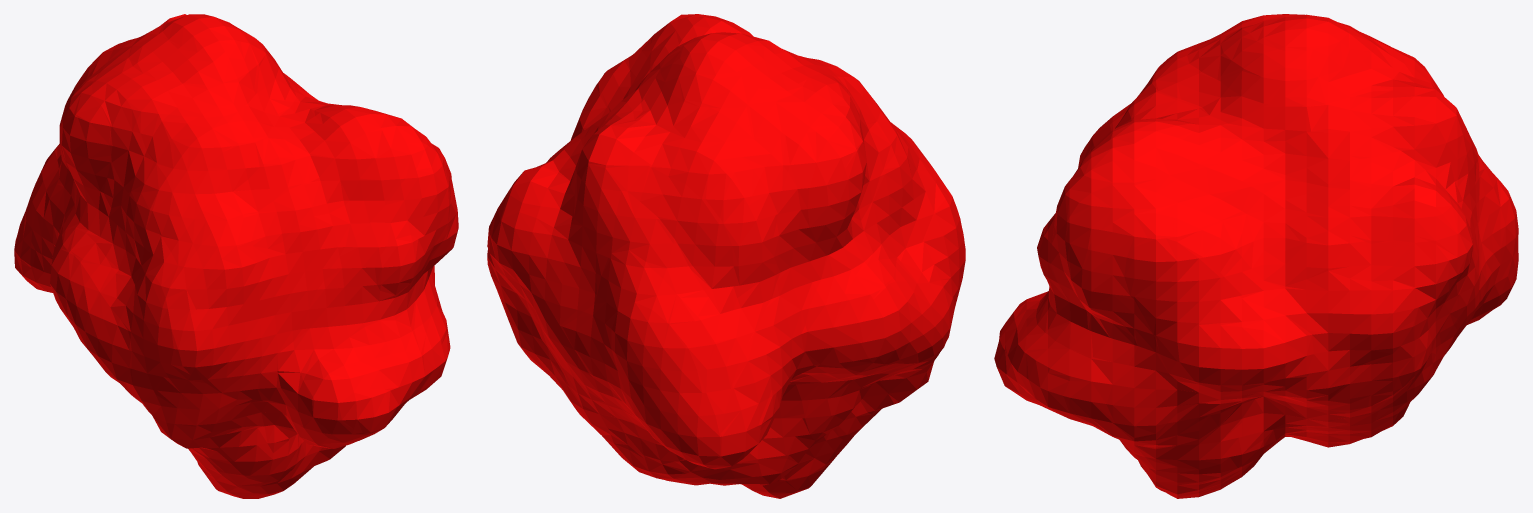
File: pyrD_coarse.dae
3 views of the same model, side by side, from view 1: azimuth 30°, elevation 25°; view 2: azimuth 150°, elevation 25°; view 3: azimuth 270°, elevation 25° (orthographic). The views are drawn at different scales.
Visible parts, largest first — view 1: pyrD; view 2: pyrD; view 3: pyrD.
Boxes of the visible parts, x1,y1,x2,y2 form: pyrD: (14, 14, 458, 498); pyrD: (487, 14, 965, 498); pyrD: (994, 14, 1518, 498).
Bounding box in the file's own units: 49.1 × 58.42 × 58.65.
